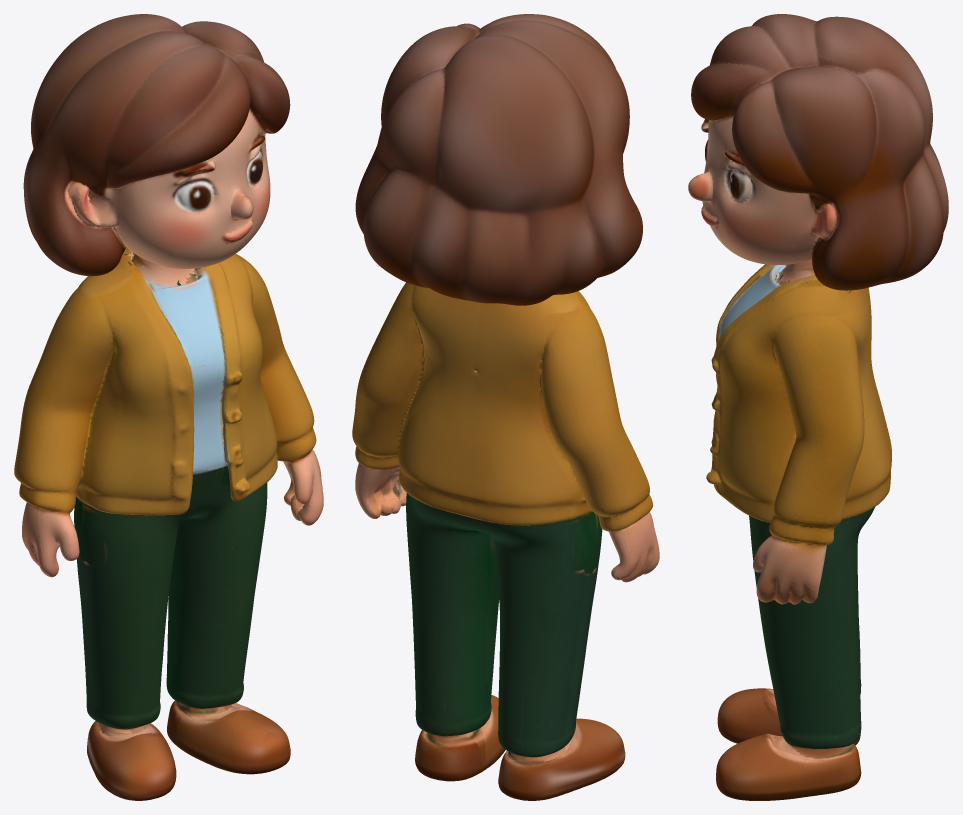
File: aunt.glb
3 views of the same model, side by side, from view 1: azimuth 30°, elevation 25°; view 2: azimuth 150°, elevation 25°; view 3: azimuth 270°, elevation 25° (orthographic). The views are drawn at different scales.
Parts seen in each view (by area): view 1: geometry_0; view 2: geometry_0; view 3: geometry_0.
Part boxes in pixels (x1,y1,x2,y2): geometry_0: [14, 14, 323, 800]; geometry_0: [352, 14, 659, 800]; geometry_0: [688, 14, 948, 800].
Bounding box in the file's own units: 0.0657 × 0.16 × 0.0518.
1 material, 1 textured.
